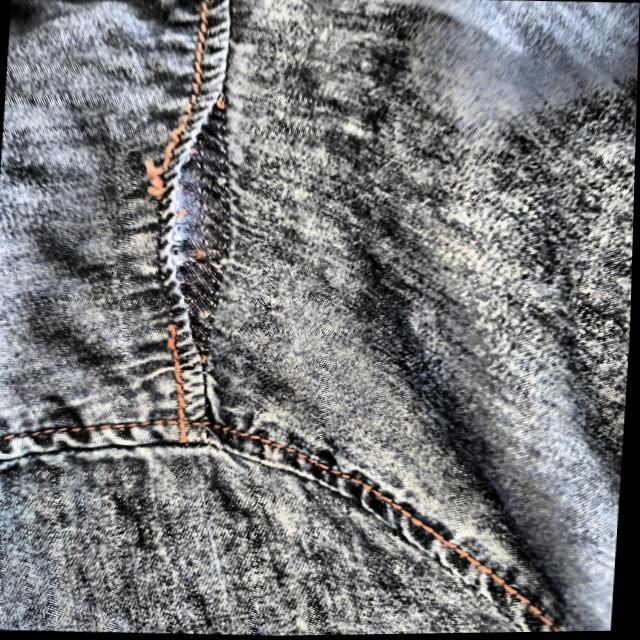seam: (118, 89, 288, 371)
